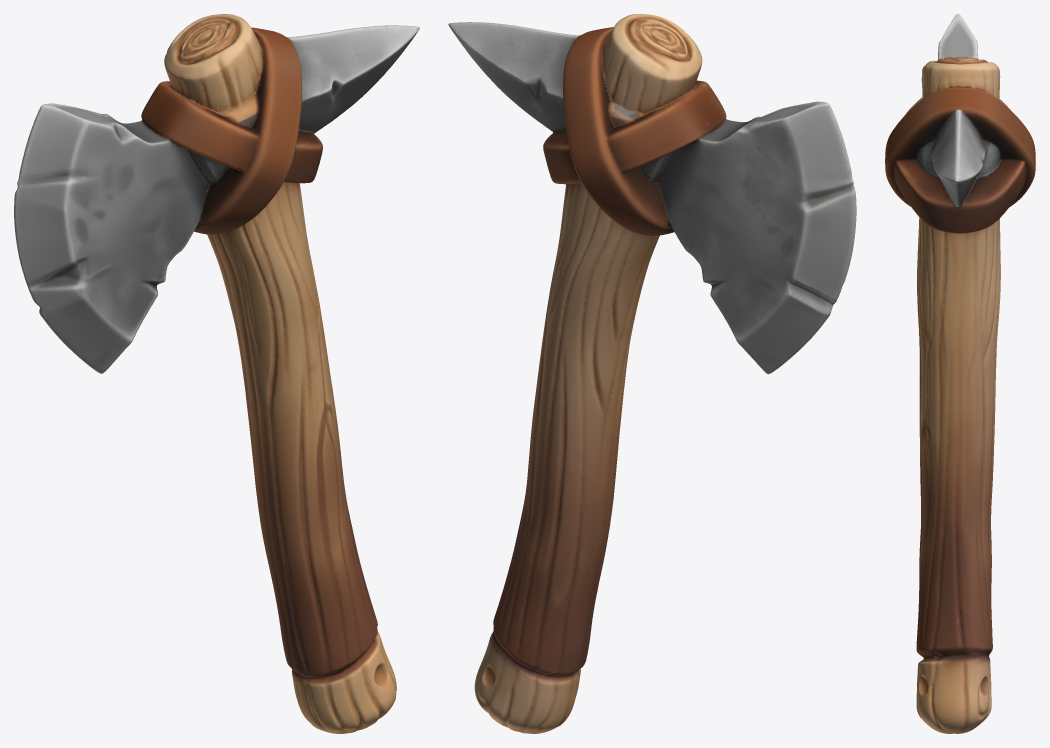
Rendered from Meshy_AI_Stone_Axe_0209085503_texture.fbx.
3 renders of one model, left to right at view 1: azimuth 30°, elevation 25°; view 2: azimuth 150°, elevation 25°; view 3: azimuth 270°, elevation 25°, orthographic. The views are drawn at different scales.
Parts seen in each view (by area): view 1: Mesh_0; view 2: Mesh_0; view 3: Mesh_0.
Part boxes in pixels (x1,y1,x2,y2): Mesh_0: (14, 14, 419, 733); Mesh_0: (448, 14, 856, 733); Mesh_0: (885, 14, 1035, 733).
Size of the model in its own units: 116 by 200 by 43.85.
1 material, 1 textured.
